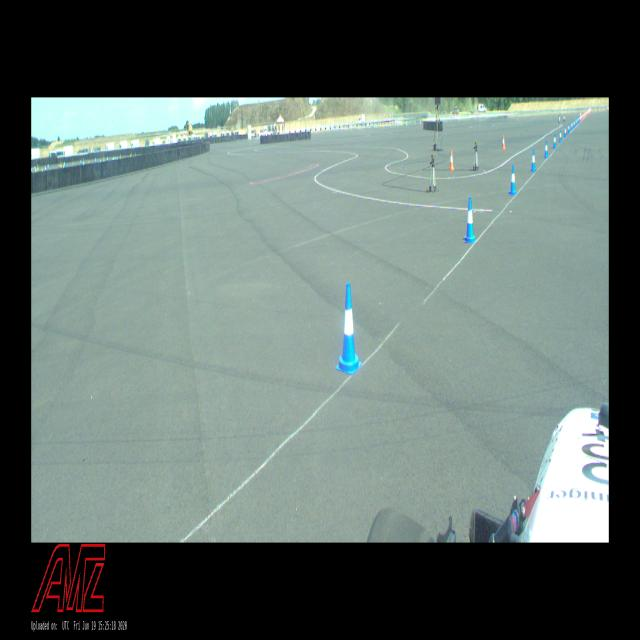blue_cone: (336, 282, 362, 375), (464, 197, 476, 243), (509, 165, 517, 195), (531, 150, 536, 171), (544, 140, 548, 158), (553, 134, 557, 149), (559, 130, 562, 142), (568, 123, 570, 134), (564, 127, 566, 137), (573, 120, 575, 128), (571, 122, 573, 130)
orange_cone: (449, 150, 454, 170), (502, 135, 505, 150)
